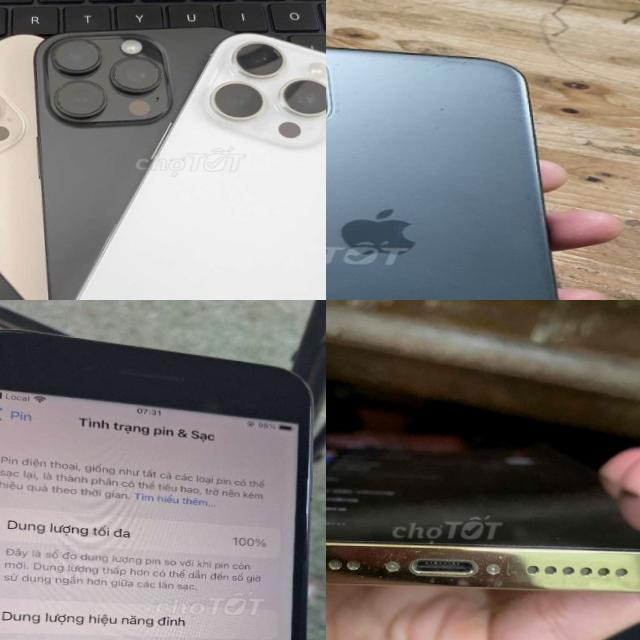scratch: (326, 527, 640, 604), (0, 322, 39, 340)
